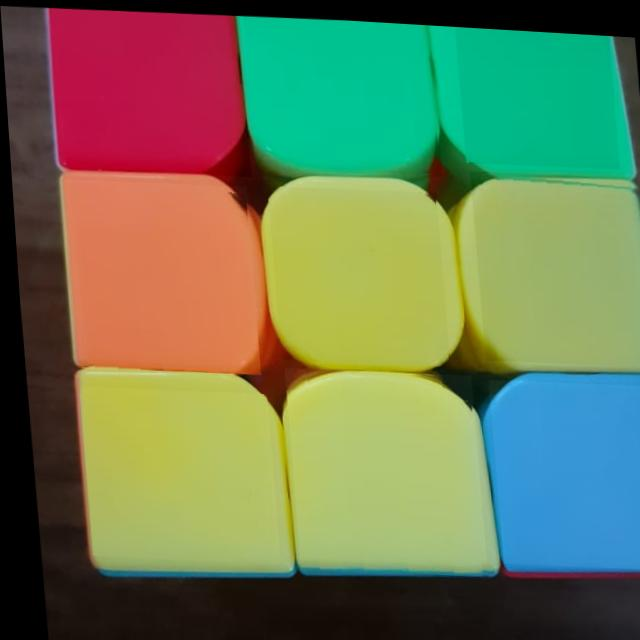Blue: (482, 370, 640, 565)
Green: (242, 11, 440, 174), (454, 21, 617, 164)
Orange: (62, 176, 258, 377)
Red: (45, 4, 249, 177)
Yellow: (279, 362, 481, 576), (73, 383, 273, 565), (468, 162, 640, 362), (265, 179, 446, 364)
